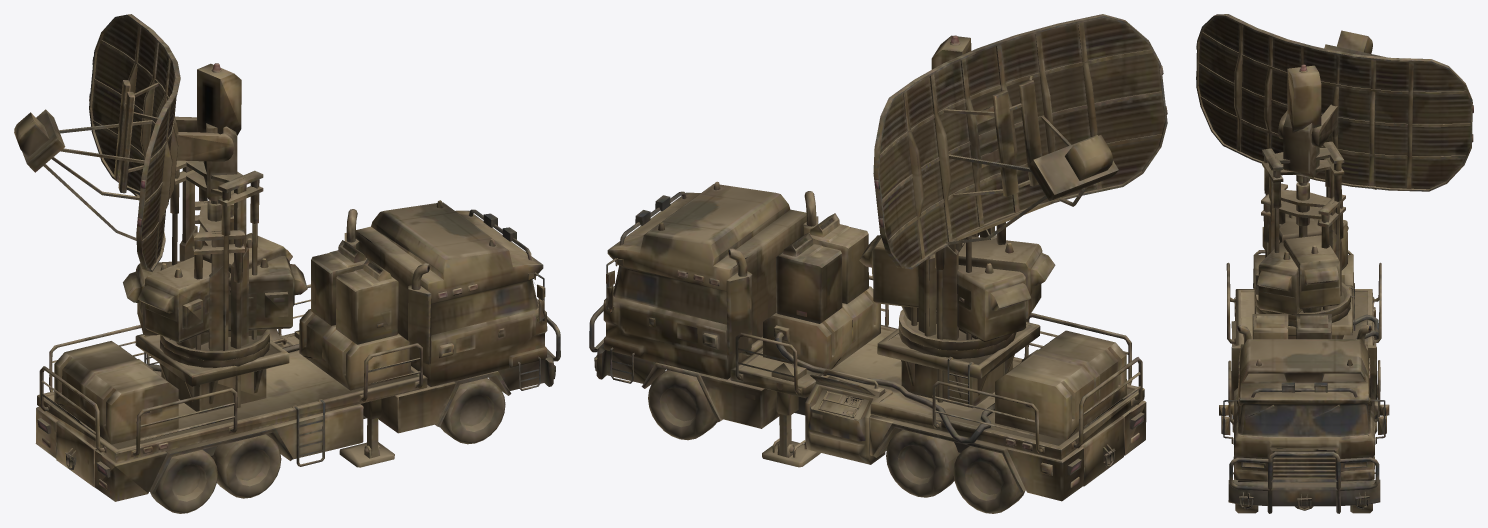
File: fh_battle_e_radar.glb
3 renders of one model, left to right at view 1: azimuth 30°, elevation 25°; view 2: azimuth 150°, elevation 25°; view 3: azimuth 270°, elevation 25°, orthographic. The views are drawn at different scales.
Visible parts, largest first — view 1: ground_radar, antenna; view 2: ground_radar, antenna; view 3: ground_radar, antenna.
Boxes of the visible parts, bbox=[...] form: ground_radar: bbox=[35, 166, 560, 513]; antenna: bbox=[14, 14, 263, 272]; ground_radar: bbox=[589, 181, 1146, 513]; antenna: bbox=[873, 14, 1167, 269]; ground_radar: bbox=[1219, 157, 1389, 513]; antenna: bbox=[1196, 14, 1473, 191].
Bounding box in the file's own units: 1 × 0.8279 × 0.5765.
1 material, 1 textured.
